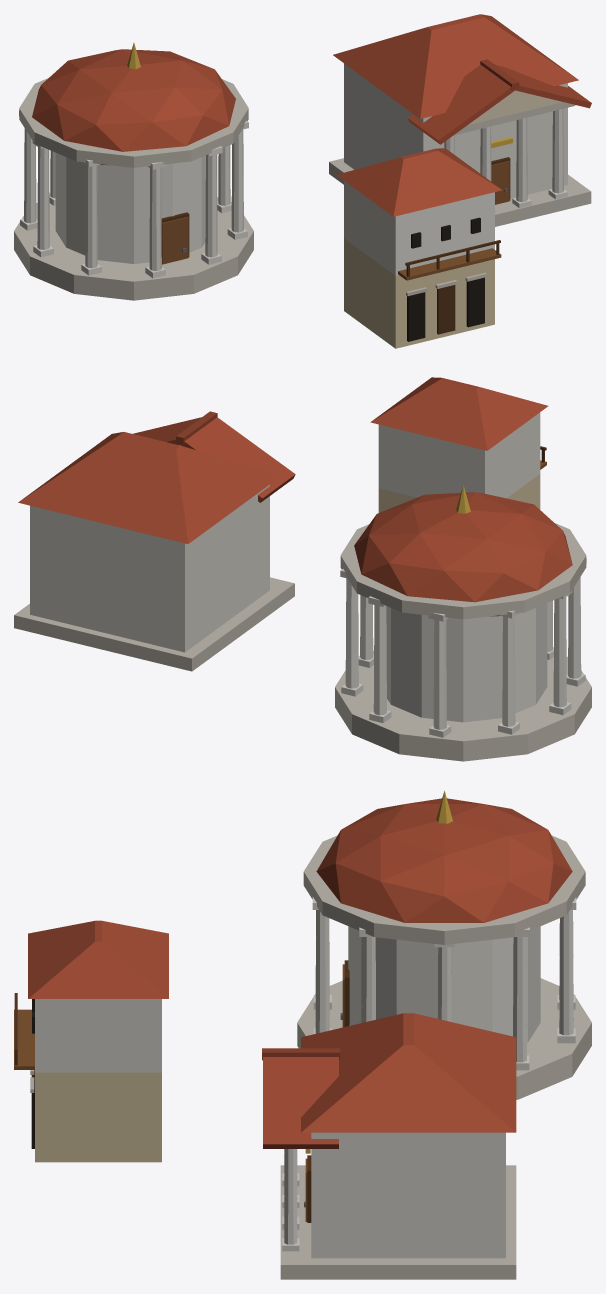
The model's file is angel_compound.glb.
3 renders of one model, top to bottom at view 1: azimuth 30°, elevation 25°; view 2: azimuth 150°, elevation 25°; view 3: azimuth 270°, elevation 25°, orthographic. The views are drawn at different scales.
Visible parts, largest first — view 1: angel_compound; view 2: angel_compound; view 3: angel_compound.
Part boxes in pixels (bbox=[...]): angel_compound: bbox=[14, 14, 591, 348]; angel_compound: bbox=[14, 377, 591, 761]; angel_compound: bbox=[14, 791, 591, 1279].
Bounding box in the file's own units: 5.47 × 2.2 × 4.51.
